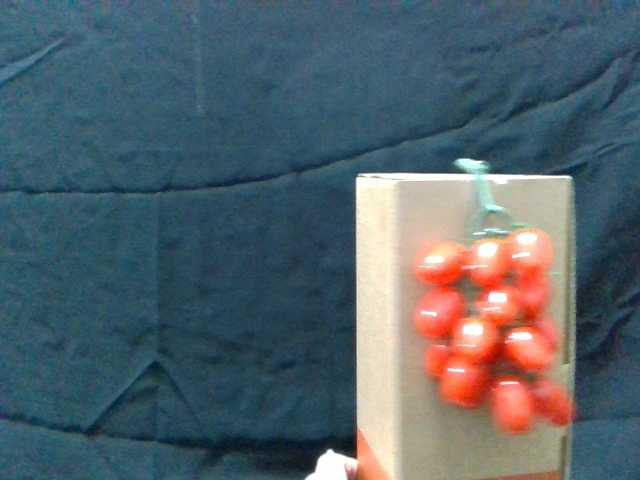tomato: (489, 376, 541, 436), (436, 359, 494, 410), (414, 287, 468, 339), (502, 325, 554, 374), (532, 373, 579, 425), (454, 318, 503, 367), (468, 236, 512, 288), (511, 228, 555, 280), (421, 241, 467, 284), (478, 284, 522, 328), (511, 275, 554, 318)
